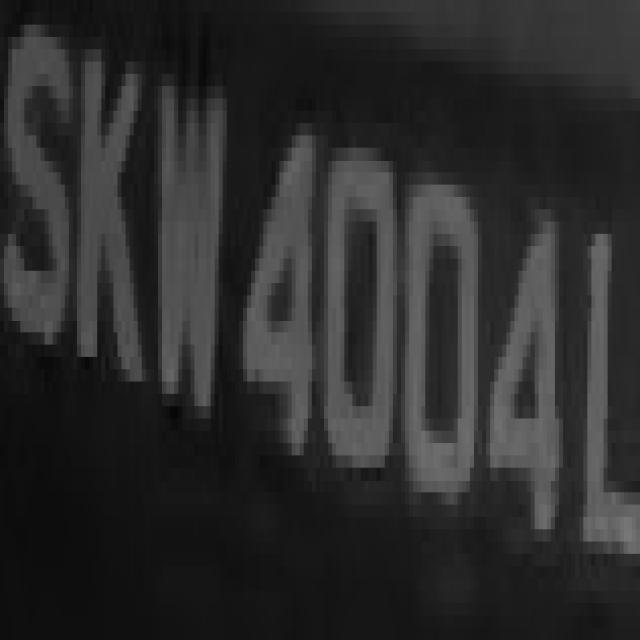0: (401, 98, 482, 554), (332, 123, 393, 517)
4: (231, 62, 332, 480), (482, 172, 571, 566)
K: (77, 12, 142, 418)
L: (583, 160, 640, 603)
S: (4, 37, 69, 406)
W: (138, 37, 223, 505)
